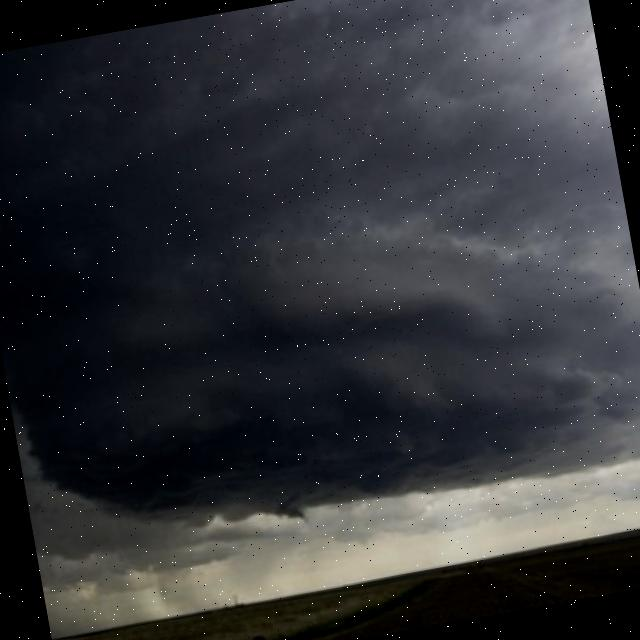Cb: (1, 1, 640, 598)
